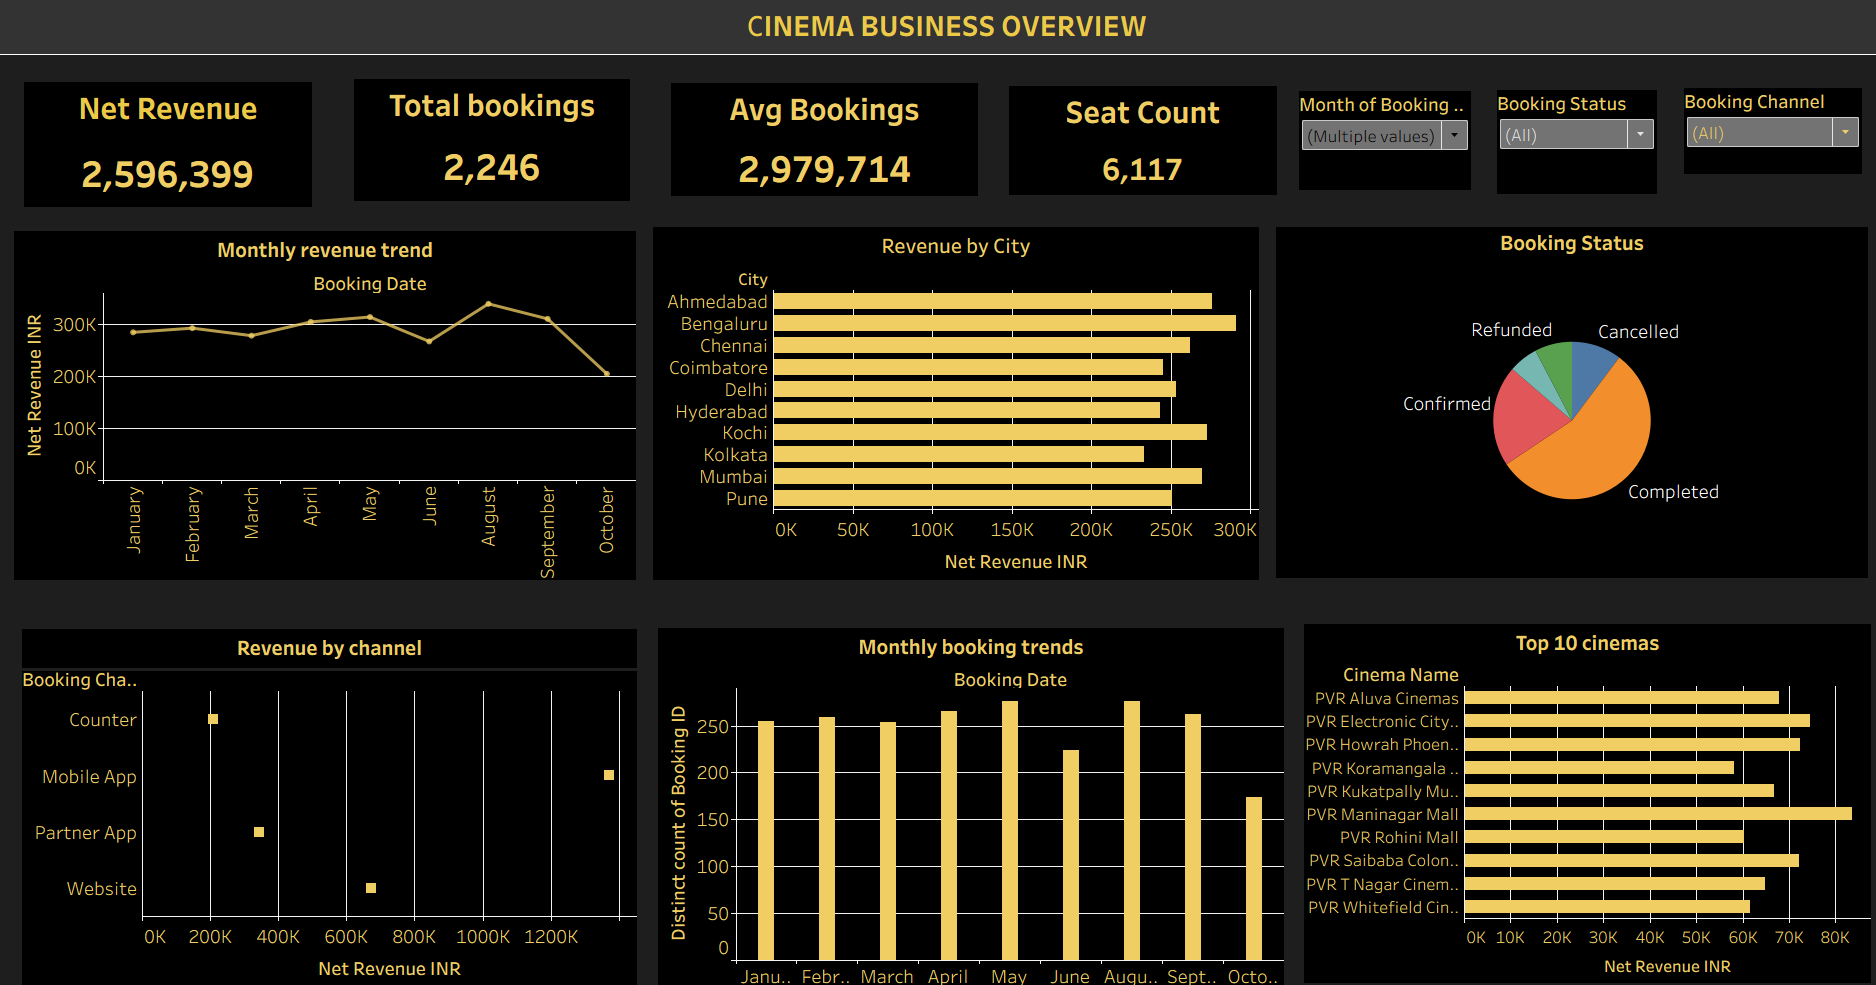

This screenshot's page, from the dashboard's own definition file:
{"tool":"tableau","page":{"name":"overview","canvas":[1000,1000],"units":"permille","ordinal":0},"visuals":[{"type":"title","box":[4.8,9.9,990.3,73.2]},{"type":"worksheet","title":"bookings","mark":"Automatic","box":[190.9,89.3,143.8,117.9]},{"type":"worksheet","title":"net revenue","mark":"Automatic","box":[19.3,91.8,149.8,120.4]},{"type":"worksheet","title":"avg bookings","mark":"Automatic","box":[356.5,93,160.1,109.2]},{"type":"worksheet","title":"sest count","mark":"Automatic","box":[532.3,95.5,139.6,105.5]},{"type":"filter","title":"revenue by channel","param":"[federated.1kcj8f20dpa58q129o3490wqqwx0].[none:Booking_Channel:nk]","box":[884,98,92.5,83.1]},{"type":"filter","title":"booking status","param":"[federated.1kcj8f20dpa58q129o3490wqqwx0].[none:Booking_Status:nk]","box":[786.7,99.3,83.4,100.5]},{"type":"filter","title":"monthy revenue trend","param":"[federated.1kcj8f20dpa58q129o3490wqqwx0].[mn:Booking_Date:ok]","box":[683.4,100.5,89.4,95.5]},{"type":"worksheet","title":"revenue by city","mark":"Automatic","rows":["City"],"cols":["Net_Revenue_INR"],"box":[346.8,232,315.4,341.2]},{"type":"worksheet","title":"booking status","mark":"Pie","box":[671.3,232,308.2,338.7]},{"type":"worksheet","title":"monthy revenue trend","mark":"Line","rows":["Net_Revenue_INR"],"cols":["Booking_Date"],"box":[13.9,235.7,323.9,337.5]},{"type":"worksheet","title":"top 10 cinemas","mark":"Automatic","rows":["Cinema_Name"],"cols":["Net_Revenue_INR"],"box":[685.8,615.4,295.5,347.4]},{"type":"worksheet","title":"monthly booking trends","mark":"Bar","rows":["Booking_ID"],"cols":["Booking_Date"],"box":[349.2,619.1,326.3,348.6]},{"type":"worksheet","title":"revenue by channel","mark":"Square","rows":["Booking_Channel"],"cols":["Net_Revenue_INR"],"box":[18.1,620.4,320.2,346.2]}]}

Visuals, with their boxes on the dashboard's canvas, which has no fixed pixel size, in thousandths of its width and height (x1, y1, x2, y2). These are canvas units, not pixel positions in the 1876x985 screenshot, which may show the page scaled, cropped or inside an application window:
title: box(5, 10, 995, 83)
"bookings" worksheet: box(191, 89, 335, 207)
"net revenue" worksheet: box(19, 92, 169, 212)
"avg bookings" worksheet: box(356, 93, 517, 202)
"sest count" worksheet: box(532, 96, 672, 201)
"revenue by channel" filter: box(884, 98, 976, 181)
"booking status" filter: box(787, 99, 870, 200)
"monthy revenue trend" filter: box(683, 100, 773, 196)
"revenue by city" worksheet: box(347, 232, 662, 573)
"booking status" worksheet (Pie marks): box(671, 232, 980, 571)
"monthy revenue trend" worksheet (Line marks): box(14, 236, 338, 573)
"top 10 cinemas" worksheet: box(686, 615, 981, 963)
"monthly booking trends" worksheet (Bar marks): box(349, 619, 676, 968)
"revenue by channel" worksheet (Square marks): box(18, 620, 338, 967)
